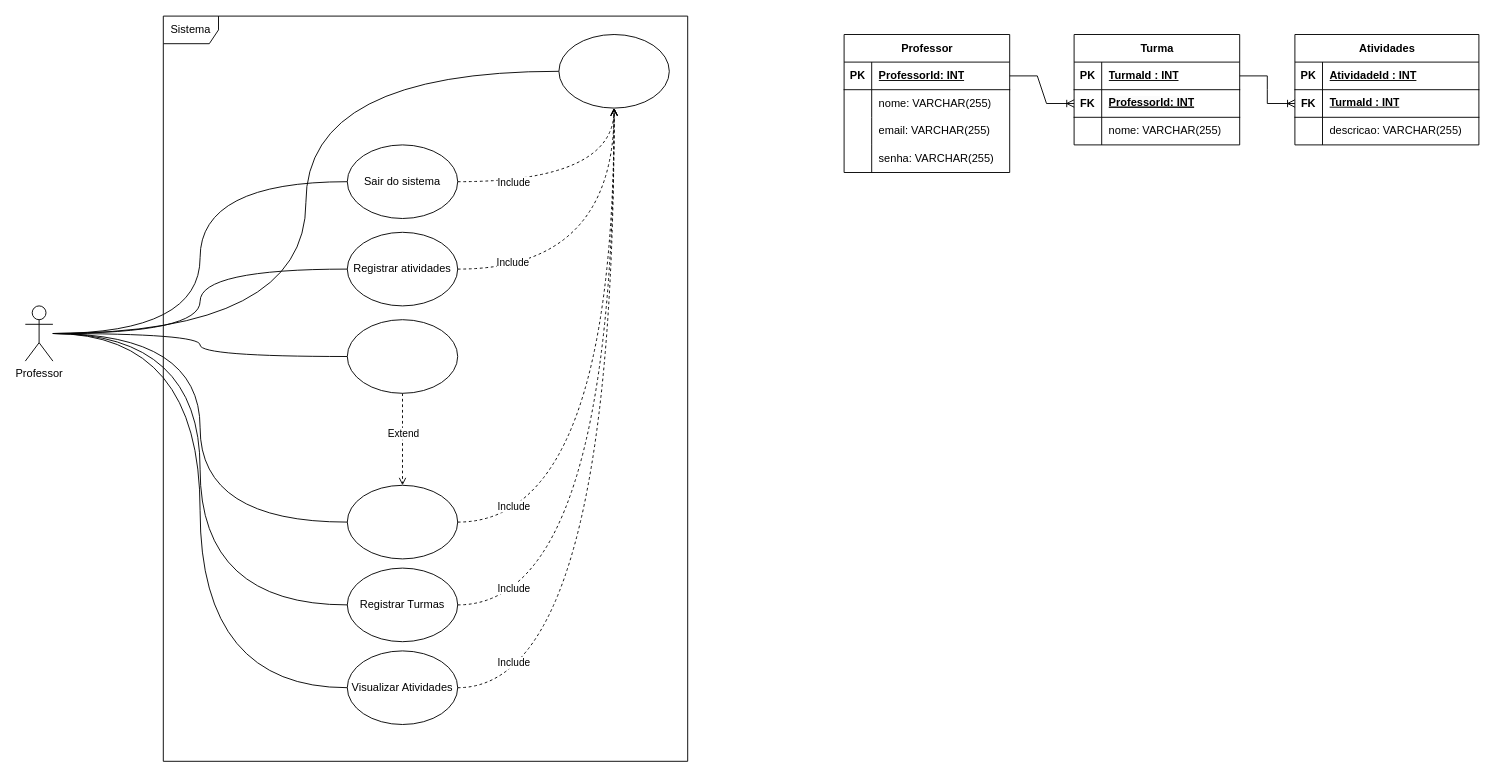
This 1495x777 diagram has some shape labels left out. The centre of each missing label's shape, as x and y in pixels:
"Autenticar-se no sistema" goes at (613,71).
"Excluir Turmas" goes at (402,356).
"Visualizar Turmas" goes at (402,521).
